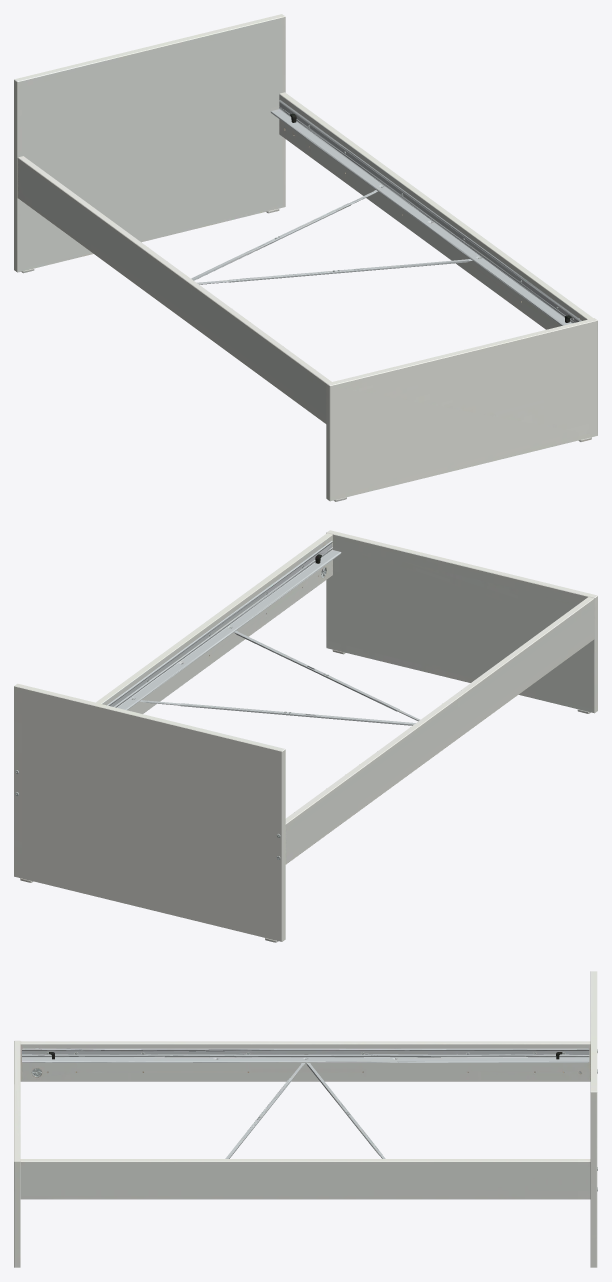
3 renders of one model, top to bottom at view 1: azimuth 30°, elevation 25°; view 2: azimuth 150°, elevation 25°; view 3: azimuth 270°, elevation 25°, orthographic. The views are drawn at different scales.
Parts seen in each view (by area): view 1: 30602429-VIHALS001_NODE_ID_88f6113c-ea6b-417f-90a6-a298f0e94; view 2: 30602429-VIHALS001_NODE_ID_88f6113c-ea6b-417f-90a6-a298f0e94; view 3: 30602429-VIHALS001_NODE_ID_88f6113c-ea6b-417f-90a6-a298f0e94.
Boxes of the visible parts, x1=… form: 30602429-VIHALS001_NODE_ID_88f6113c-ea6b-417f-90a6-a298f0e94: x1=14, y1=14, x2=597, y2=501; 30602429-VIHALS001_NODE_ID_88f6113c-ea6b-417f-90a6-a298f0e94: x1=14, y1=530, x2=597, y2=942; 30602429-VIHALS001_NODE_ID_88f6113c-ea6b-417f-90a6-a298f0e94: x1=14, y1=971, x2=597, y2=1267.
Size of the model in its own units: 0.96 by 0.66 by 1.96.
Materials: 1 (1 with a texture image).
